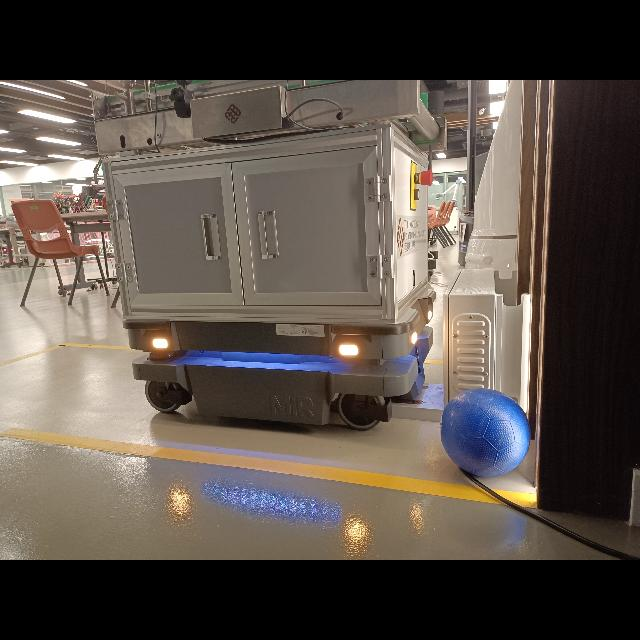B: (439, 388, 529, 478)
